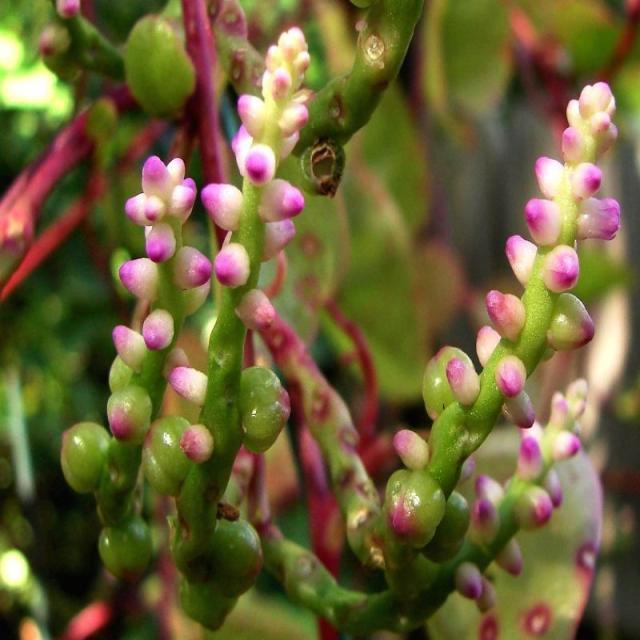Medicinal-Basale: (52, 20, 629, 615)
